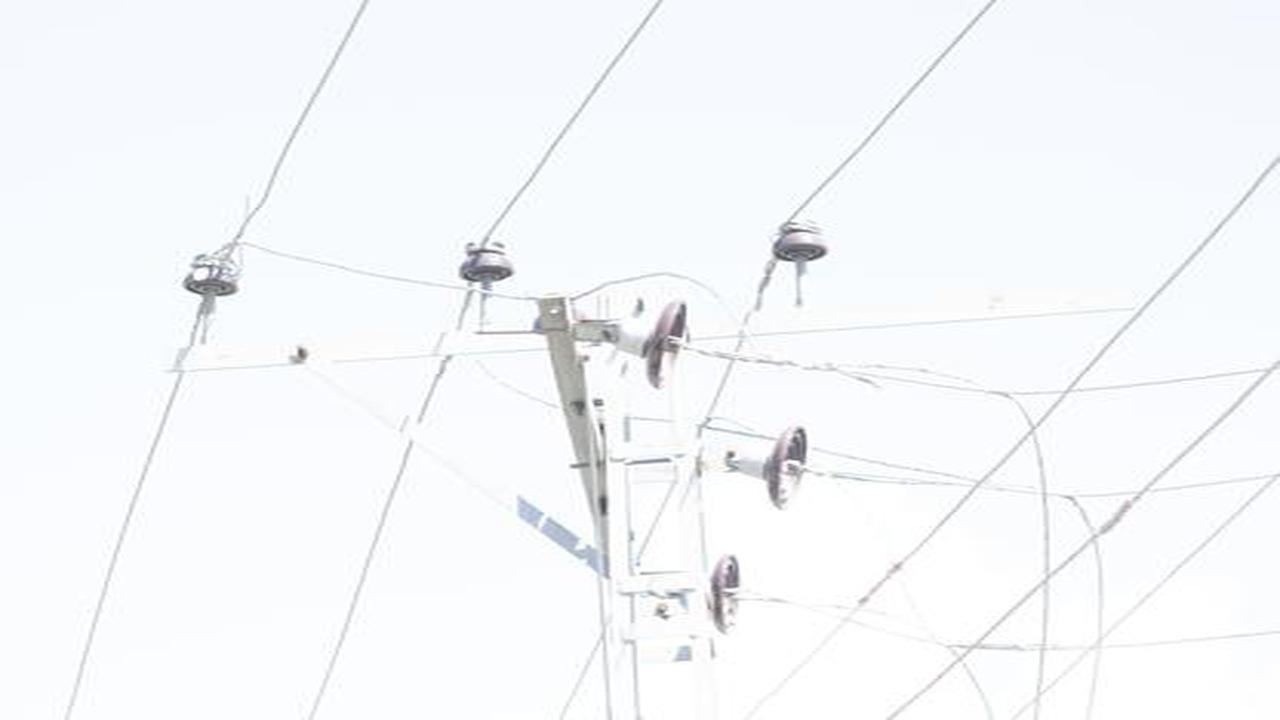defect_pin: (180, 247, 243, 304)
insulator_disc: (623, 290, 692, 391), (748, 422, 810, 510), (698, 558, 741, 631)
insulator_pin: (769, 211, 832, 267), (456, 235, 516, 288)
